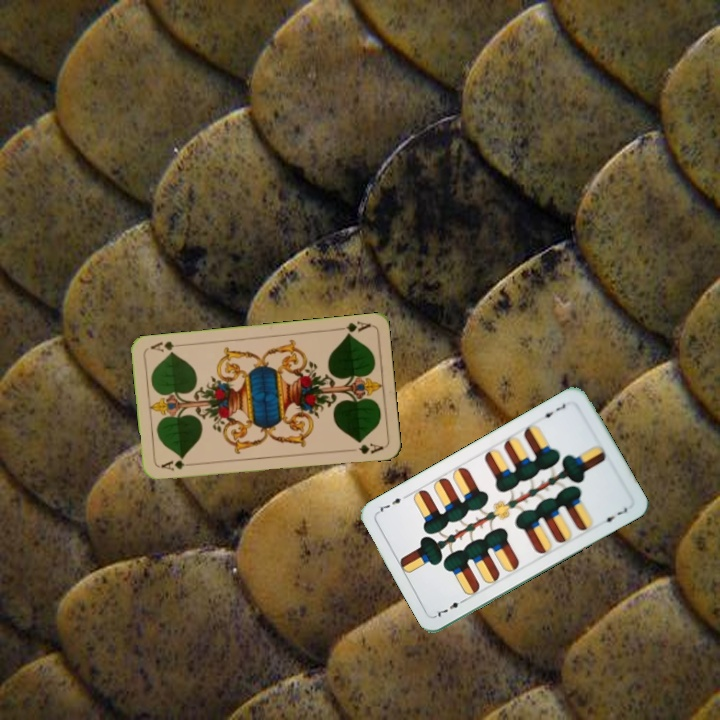E7: (432, 594, 469, 620), (536, 400, 568, 421)
GA: (333, 317, 373, 338), (157, 456, 197, 473)
